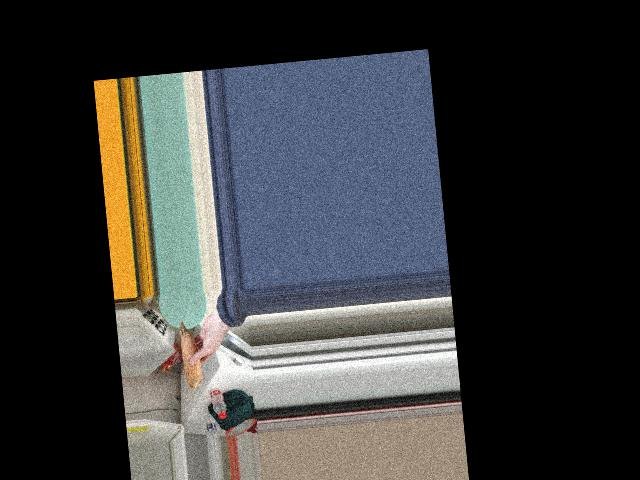sweet_potato: (179, 320, 207, 383)
